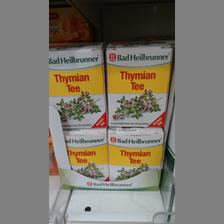Tee: (105, 40, 173, 128), (48, 43, 108, 130), (107, 127, 163, 181), (61, 128, 106, 180)
